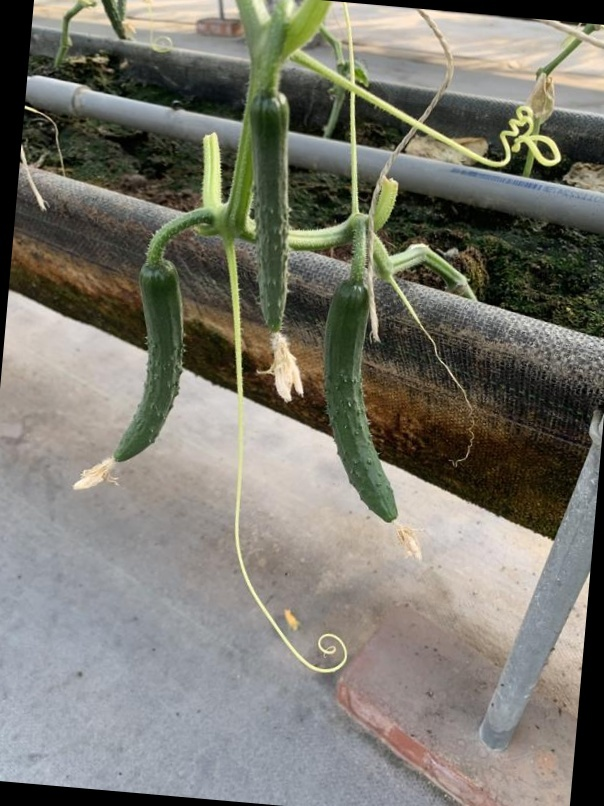growth: (106, 254, 190, 469), (245, 91, 297, 339)
mature: (319, 277, 404, 531)
